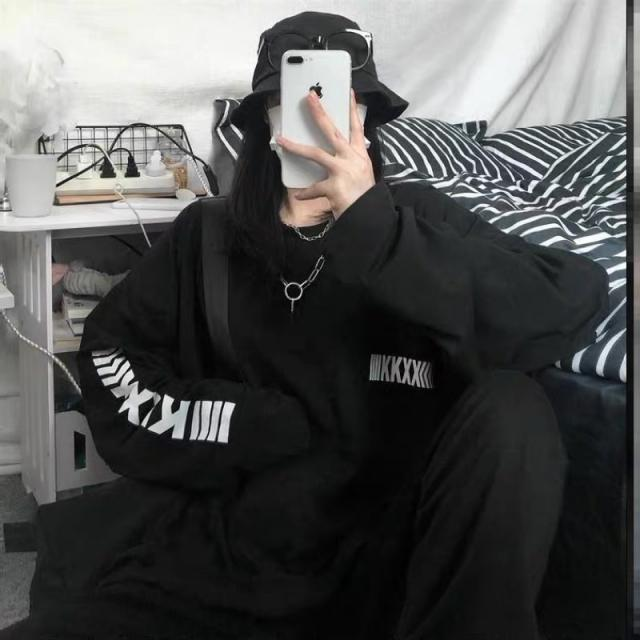Shirt: (73, 181, 612, 617)
